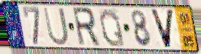7: (21, 6, 42, 47)
8: (130, 9, 153, 48)
Q: (98, 7, 127, 48)
R: (71, 6, 102, 48)
U: (42, 6, 71, 47)
V: (149, 8, 176, 50)
